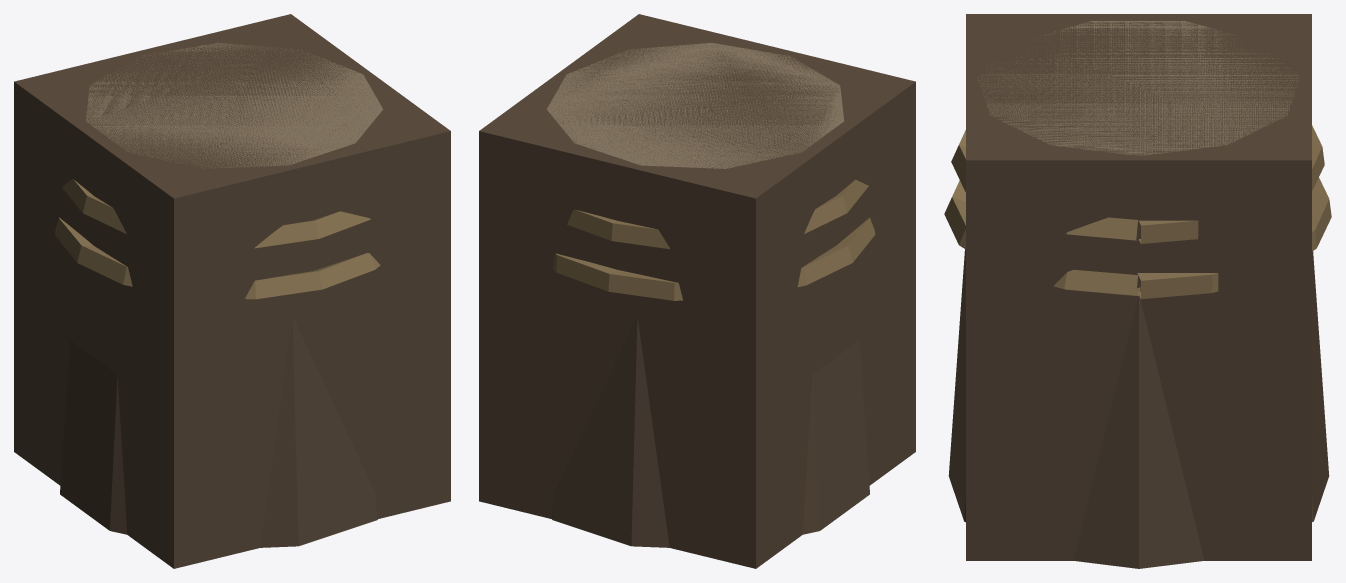
File: homestead_stool.glb
3 renders of one model, left to right at view 1: azimuth 30°, elevation 25°; view 2: azimuth 150°, elevation 25°; view 3: azimuth 270°, elevation 25°, orthographic. The views are drawn at different scales.
Visible parts, largest first — view 1: HomesteadStool_Far, HomesteadStool_Stump, HomesteadStool_Seat, HomesteadStool_Rope0.32, HomesteadStool_Rope0.38; view 2: HomesteadStool_Far, HomesteadStool_Seat, HomesteadStool_Stump, HomesteadStool_Rope0.32, HomesteadStool_Rope0.38; view 3: HomesteadStool_Far, HomesteadStool_Stump, HomesteadStool_Seat, HomesteadStool_Rope0.32, HomesteadStool_Rope0.38.
Boxes of the visible parts, left/top/right/bottom form: HomesteadStool_Far: left=14, top=14, right=450, bottom=568; HomesteadStool_Stump: left=60, top=316, right=377, bottom=547; HomesteadStool_Seat: left=86, top=42, right=383, bottom=168; HomesteadStool_Rope0.32: left=55, top=217, right=380, bottom=299; HomesteadStool_Rope0.38: left=62, top=179, right=370, bottom=248; HomesteadStool_Far: left=479, top=14, right=915, bottom=568; HomesteadStool_Seat: left=546, top=42, right=844, bottom=168; HomesteadStool_Stump: left=552, top=316, right=869, bottom=547; HomesteadStool_Rope0.32: left=553, top=217, right=875, bottom=300; HomesteadStool_Rope0.38: left=567, top=179, right=868, bottom=249; HomesteadStool_Far: left=966, top=14, right=1311, bottom=560; HomesteadStool_Stump: left=948, top=249, right=1329, bottom=568; HomesteadStool_Seat: left=978, top=21, right=1299, bottom=155; HomesteadStool_Rope0.32: left=944, top=177, right=1331, bottom=299; HomesteadStool_Rope0.38: left=951, top=125, right=1324, bottom=243.
Bounding box in the file's own units: 0.4046 × 0.46 × 0.4032.
